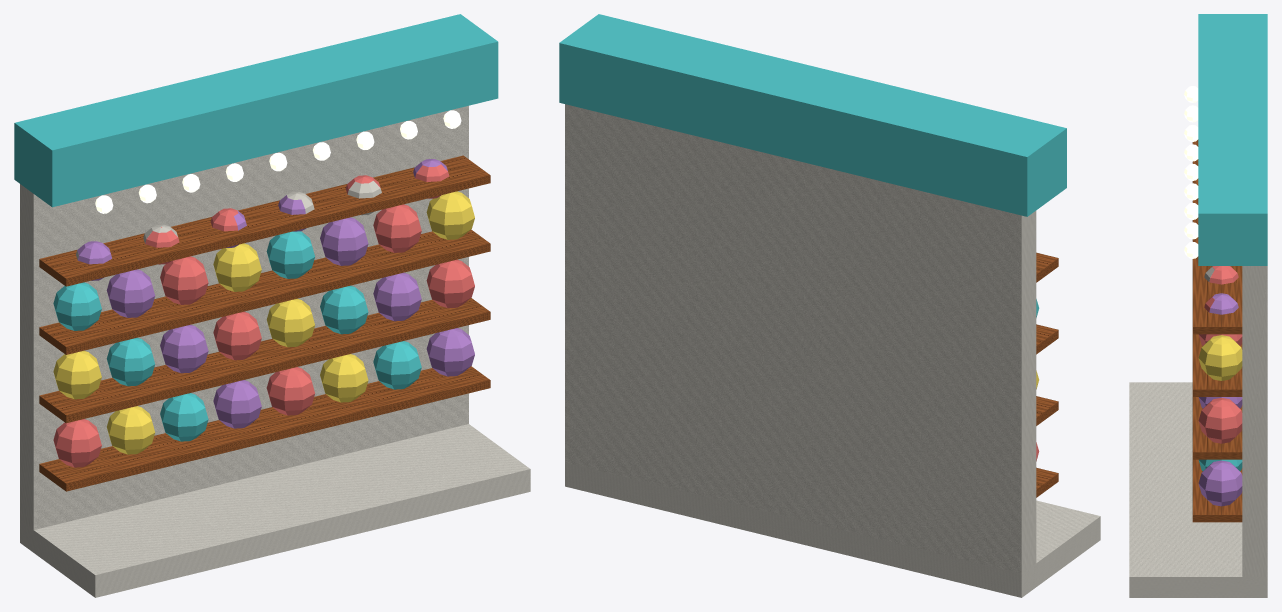
File: theme-park-rides-and-coasters-theme-park-rides-and-coa-b9f50c7c__28689.glb
3 views of the same model, side by side, from view 1: azimuth 30°, elevation 25°; view 2: azimuth 150°, elevation 25°; view 3: azimuth 270°, elevation 25° (orthographic). The views are drawn at different scales.
Visible parts, largest first — view 1: theme-park-rides-and-coasters-prize-wall; view 2: theme-park-rides-and-coasters-prize-wall; view 3: theme-park-rides-and-coasters-prize-wall.
Part boxes in pixels (box(x1,y1,x2,y2)): theme-park-rides-and-coasters-prize-wall: box(14, 14, 530, 597); theme-park-rides-and-coasters-prize-wall: box(559, 14, 1100, 597); theme-park-rides-and-coasters-prize-wall: box(1129, 14, 1267, 597).
Bounding box in the file's own units: 4.1 × 3.7 × 1.2.
7 materials, 2 textured.
